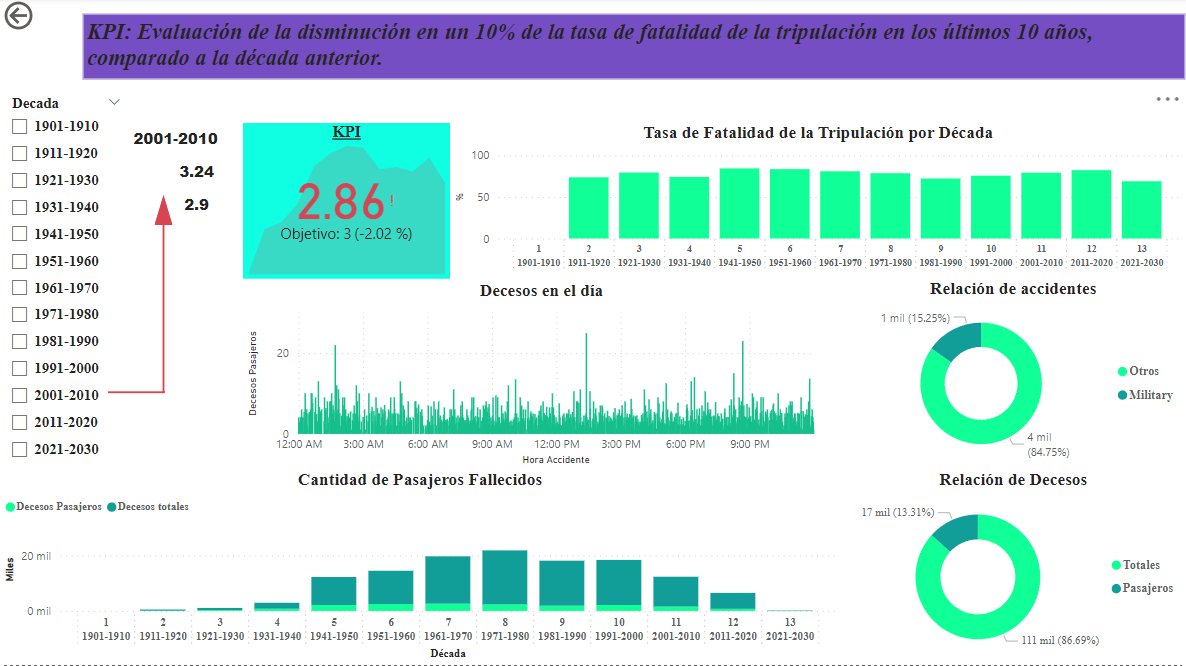

This screenshot's page, from the dashboard's own definition file:
{"tool":"powerbi","page":{"name":"KPI 1","canvas":[1280,720],"ordinal":1},"visuals":[{"type":"donutChart","title":"Relación de accidentes","fields":{"Y":["Sum(Acci.Comercial)","Sum(Acci.Military)"]},"box":[906.1,304.2,373.8,203.9],"z":0},{"type":"slicer","fields":{"Values":["Acci.Decada"]},"box":[0,100.3,142.4,409.3],"z":1000},{"type":"kpi","title":"KPI","fields":{"TrendLine":["Acci.Decada"],"Indicator":["Acci.KPI_por_decada"],"Goal":["Acci.Objetivo"]},"box":[262.1,135.9,223.3,168.3],"z":2000},{"type":"lineStackedColumnComboChart","title":"Cantidad de Pasajeros Fallecidos","fields":{"Category":["Acci.Decada","Acci.Valor Decada"],"Y":["Sum(Acci.crew_fatalities)","Sum(Acci.cantidad de fallecidos)"]},"box":[0,509.7,906.2,209.6],"z":3000},{"type":"actionButton","box":[0,0,100,40],"z":4000},{"type":"textbox","box":[161.8,207.1,100.3,38.8],"z":5000},{"type":"columnChart","title":"Tasa de Fatalidad de la Tripulación por Década","fields":{"Y":["Acci.Tasa de Fatalidad de la Tripulación"],"Category":["Acci.Decada","Acci.Valor Decada"]},"box":[485.4,135.9,794.4,168.3],"z":6000},{"type":"donutChart","title":"Relación de Decesos","fields":{"Y":["Sum(Acci.cantidad de fallecidos)","Sum(Acci.crew_fatalities)"]},"box":[906.1,509.7,373.8,210.3],"z":7000},{"type":"textbox","box":[116.5,135.9,145.6,35.6],"z":8000},{"type":"textbox","box":[89,17.8,1190.8,71.2],"z":9000},{"type":"lineClusteredColumnComboChart","title":"Decesos en el día","fields":{"Category":["Acci.Hora Accidente"],"Y":["Avg(Acci.crew_fatalities)"]},"box":[262.1,305.8,644,203.9],"z":10000},{"type":"textbox","box":[161.8,171.5,100.3,35.6],"z":11000},{"type":"shape","box":[116.5,276.7,61.5,299.3],"z":12000},{"type":"shape","box":[147.2,245.9,58.2,181.2],"z":13000},{"type":"shape","box":[166.7,213.6,19.4,32.4],"z":14000}]}

Visuals, with their boxes in screenshot pixels (x1, y1, x2, y2), scaled from the page's 1280x720 canvas onto the 1186x666 screenshot:
"Relación de accidentes" donutChart: 840, 281, 1185, 470
slicer - Acci.Decada: 0, 93, 132, 471
"KPI" kpi: 243, 126, 450, 281
"Cantidad de Pasajeros Fallecidos" lineStackedColumnComboChart: 0, 471, 840, 665
actionButton: 0, 0, 93, 37
textbox: 150, 192, 243, 227
"Tasa de Fatalidad de la Tripulación por Década" columnChart: 450, 126, 1185, 281
"Relación de Decesos" donutChart: 840, 471, 1185, 665
textbox: 108, 126, 243, 159
textbox: 82, 16, 1185, 82
"Decesos en el día" lineClusteredColumnComboChart: 243, 283, 840, 471
textbox: 150, 159, 243, 192
shape: 108, 256, 165, 533
shape: 136, 227, 190, 395
shape: 154, 198, 172, 228
